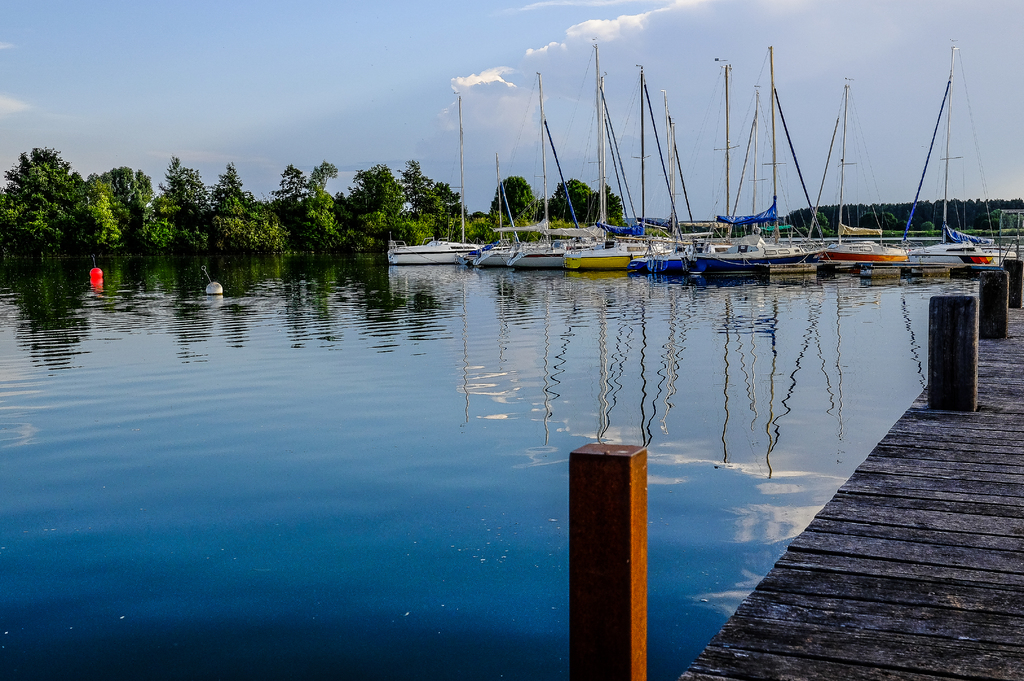Tree: (5, 119, 97, 268), (784, 198, 1023, 231), (267, 161, 356, 249), (339, 161, 427, 245), (207, 160, 284, 250), (391, 161, 469, 245), (88, 167, 161, 254), (151, 153, 207, 261), (537, 177, 625, 224), (488, 174, 536, 225)
